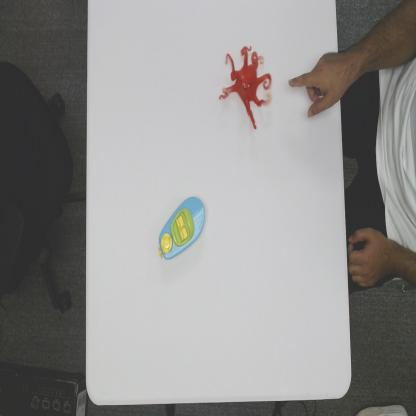Arm: (338, 3, 416, 92)
Boat: (158, 194, 206, 257)
Hand: (290, 49, 339, 125)
Octopus: (220, 48, 272, 119)
